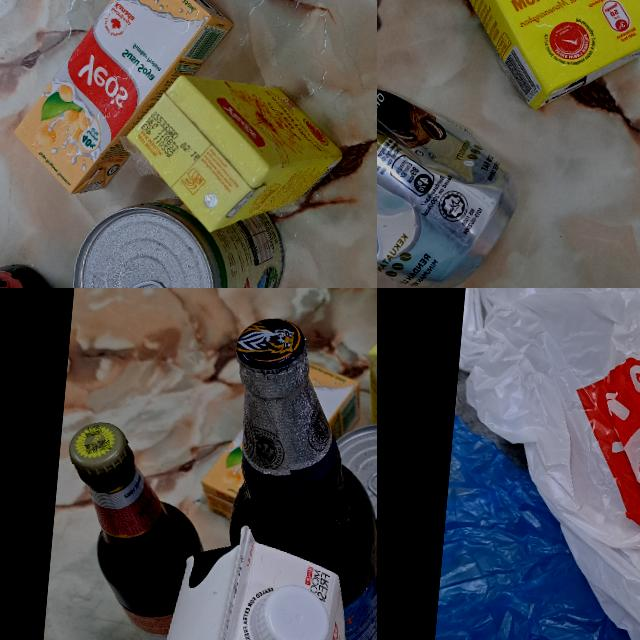aba de lata: (127, 269, 179, 288)
caixinha: (5, 0, 247, 204), (122, 70, 350, 240), (377, 0, 640, 121), (205, 349, 362, 521), (147, 520, 372, 640)
garrafa de vidro: (206, 313, 377, 640), (54, 415, 208, 637), (0, 240, 60, 288)
lata: (377, 1, 530, 288), (70, 187, 286, 288), (319, 414, 377, 607)
sacola plástica: (432, 288, 640, 640)
tampa plástica: (242, 579, 336, 640)
